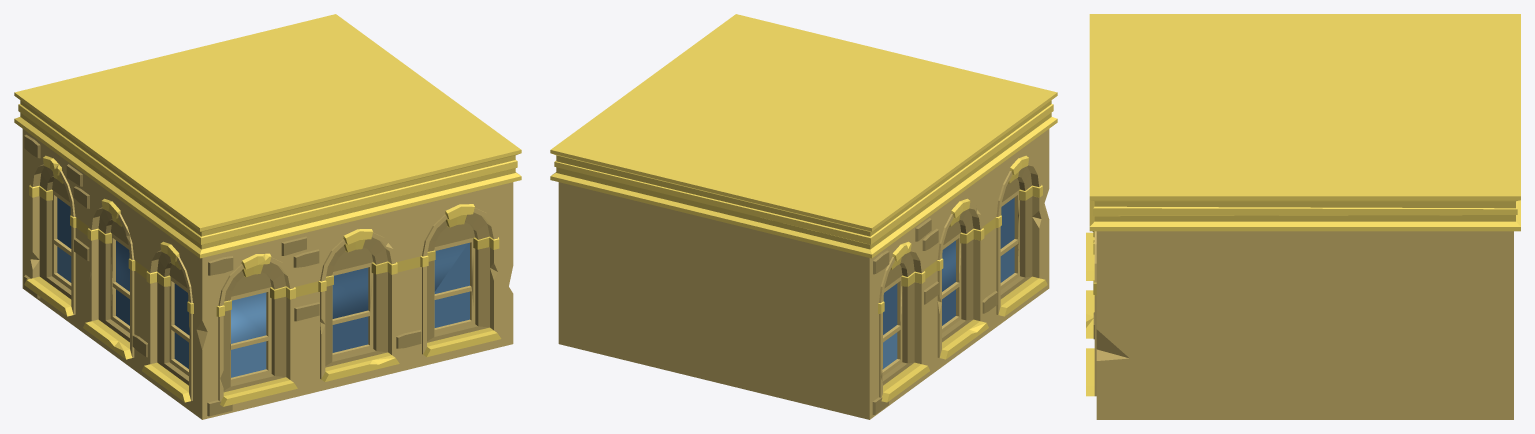
Rendered from Mod_Edificio_8.fbx.
3 renders of one model, left to right at view 1: azimuth 30°, elevation 25°; view 2: azimuth 150°, elevation 25°; view 3: azimuth 270°, elevation 25°, orthographic. The views are drawn at different scales.
Visible parts, largest first — view 1: Edificio_8; view 2: Edificio_8; view 3: Edificio_8.
Boxes of the visible parts, x1=… form: Edificio_8: x1=14, y1=14, x2=521, y2=419; Edificio_8: x1=550, y1=14, x2=1057, y2=419; Edificio_8: x1=1086, y1=14, x2=1520, y2=419.
Bounding box in the file's own units: 5.21 × 3 × 5.21.
